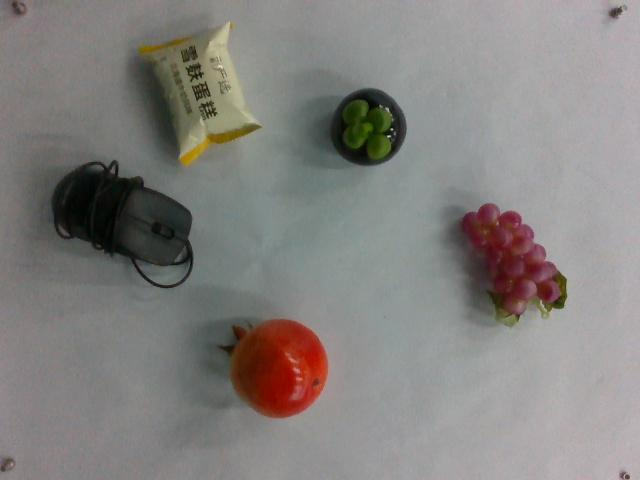dessert: (136, 21, 261, 165)
grape: (458, 197, 569, 325)
mangosteen: (329, 87, 410, 172)
mouse: (54, 155, 199, 292)
pomegranate: (220, 316, 329, 420)
